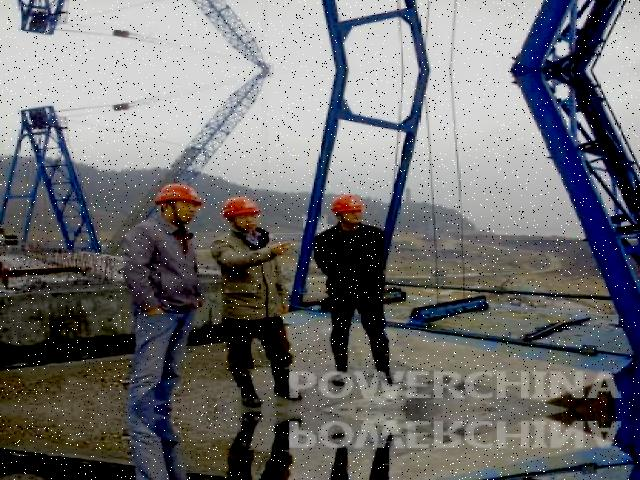Helmet: (147, 180, 202, 207), (324, 190, 372, 220), (218, 192, 261, 221)
